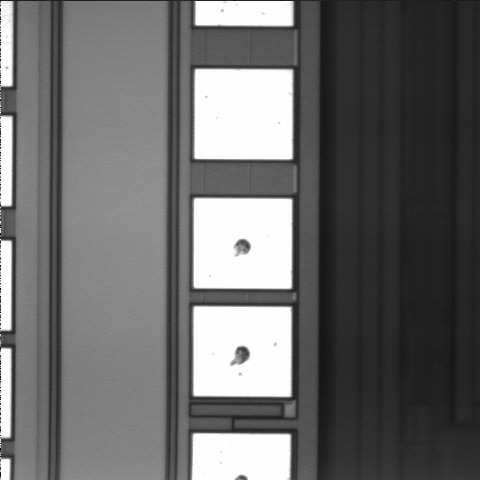pad: (194, 198, 292, 289), (195, 69, 293, 159), (194, 307, 291, 397)
